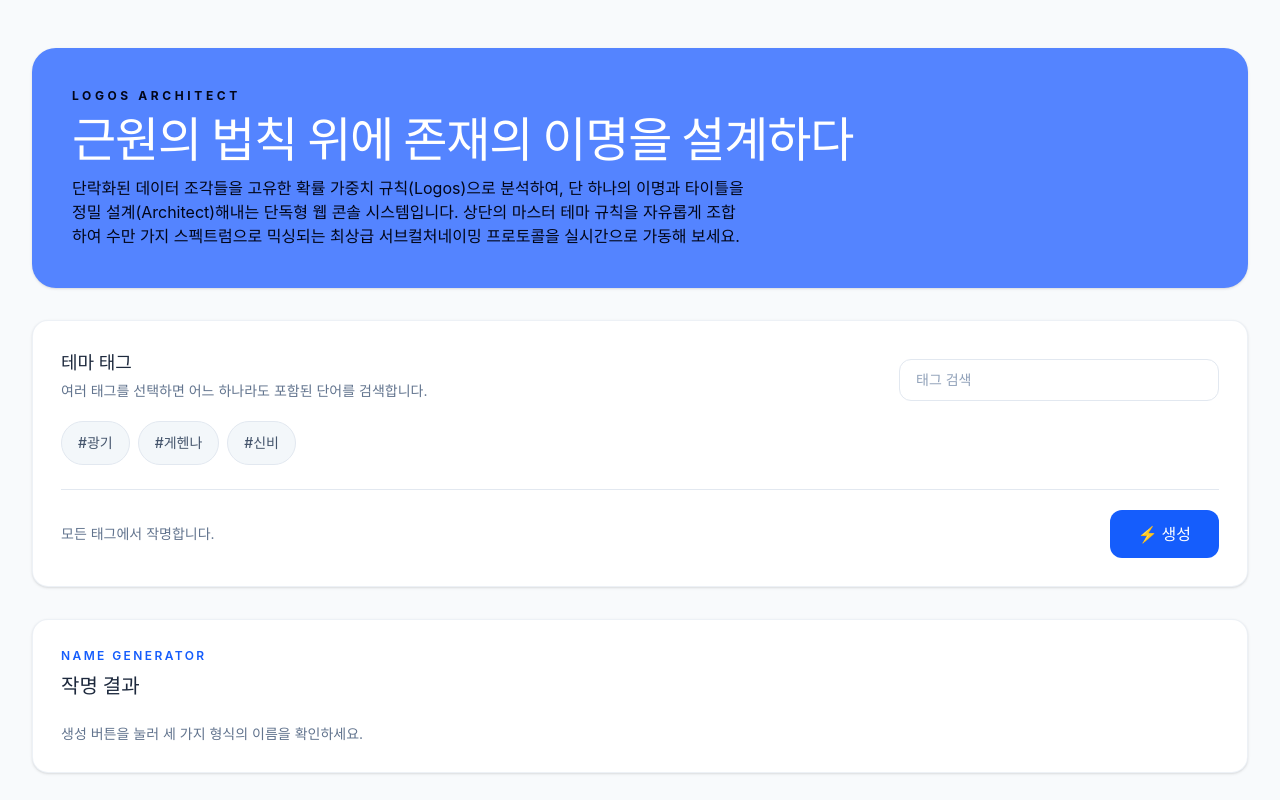
Scenario: Logos Architect workspace › shows generation failures and preserves the empty dictionary state
This screenshot has width=1280, height=800.
What coordinates should you click on to do the following:
click the button "⚡ 생성"
I would click on:
 (1164, 534)
Its box is [1110, 510, 1219, 558].
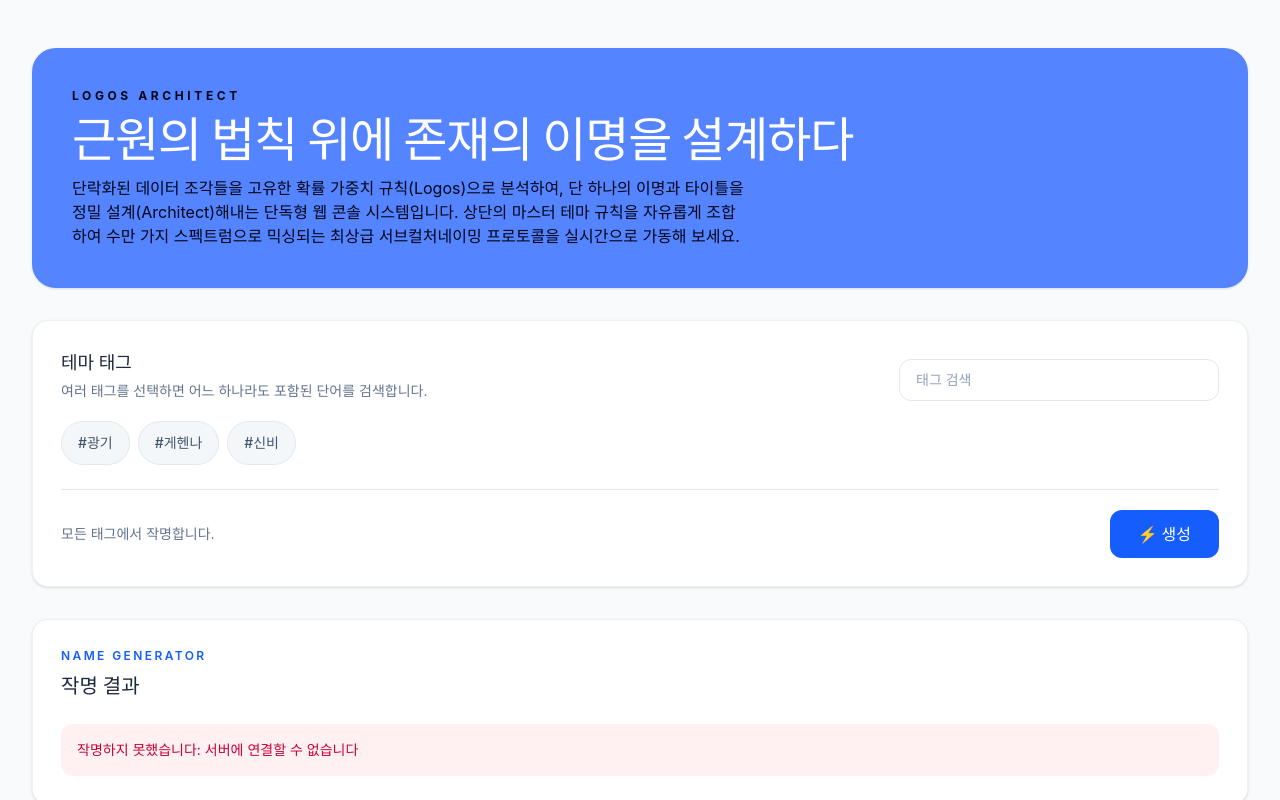
Check: the message shows "서버에 연결할 수 없습니다", box [205, 741, 358, 758]
